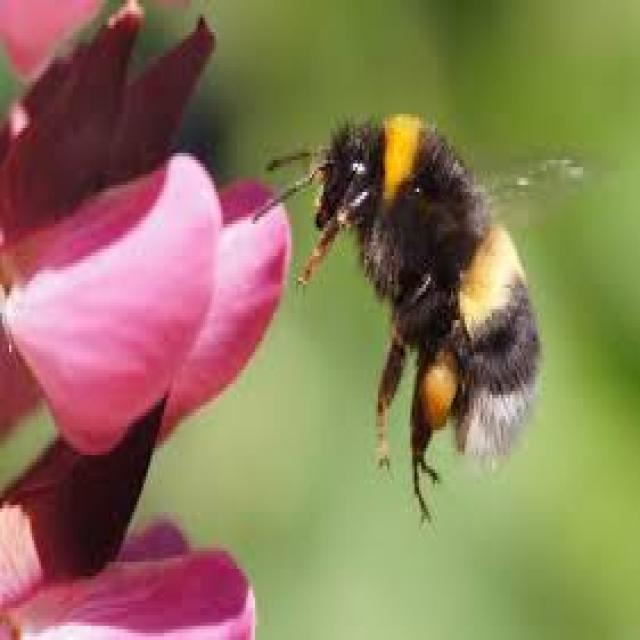Bees: (239, 69, 601, 549)
